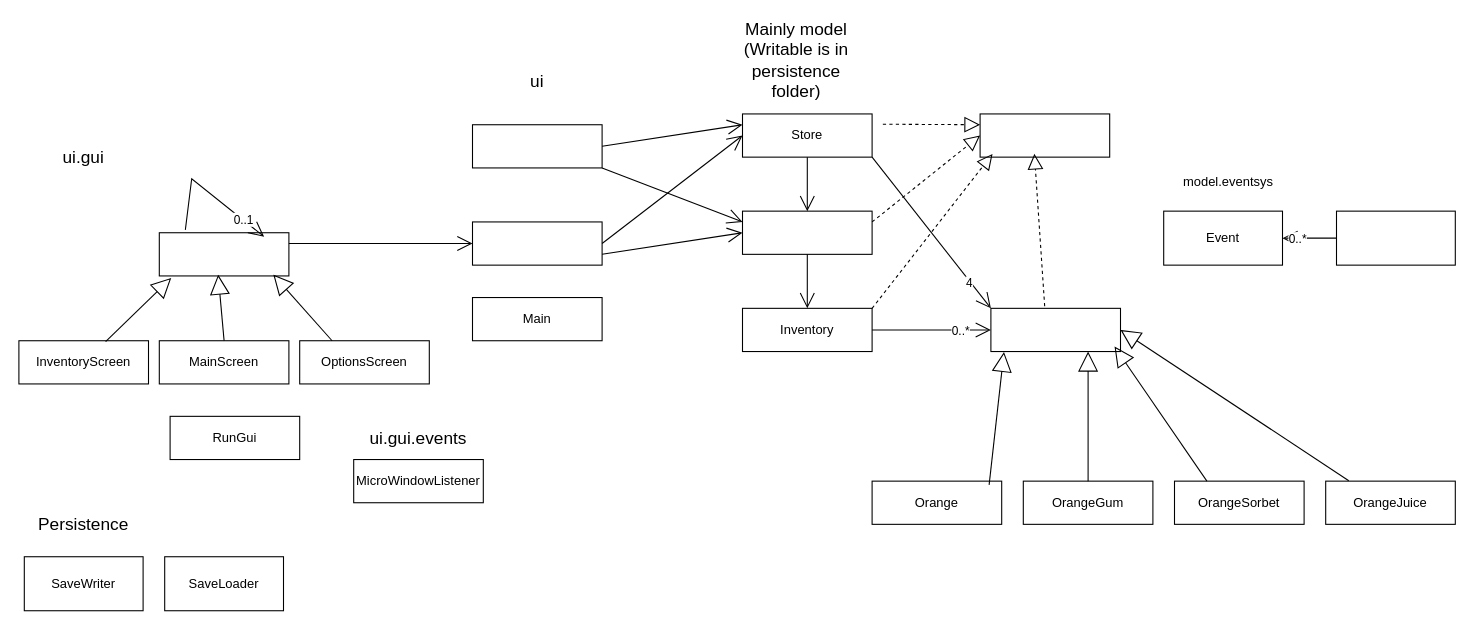
Image size: 1474x630. Some labels were removed from this diagram. The centre of each missing label's shape, as x and y in pixels:
"<<abstract>> GenericScreen" belongs at point (223, 254).
"<<interface>> Writable" belongs at point (1044, 135).
"App" belongs at point (536, 243).
"EventLog" belongs at point (1395, 237).
"Player" belongs at point (806, 232).
"Product" belongs at point (1055, 329).
"RunStore" belongs at point (536, 146).
